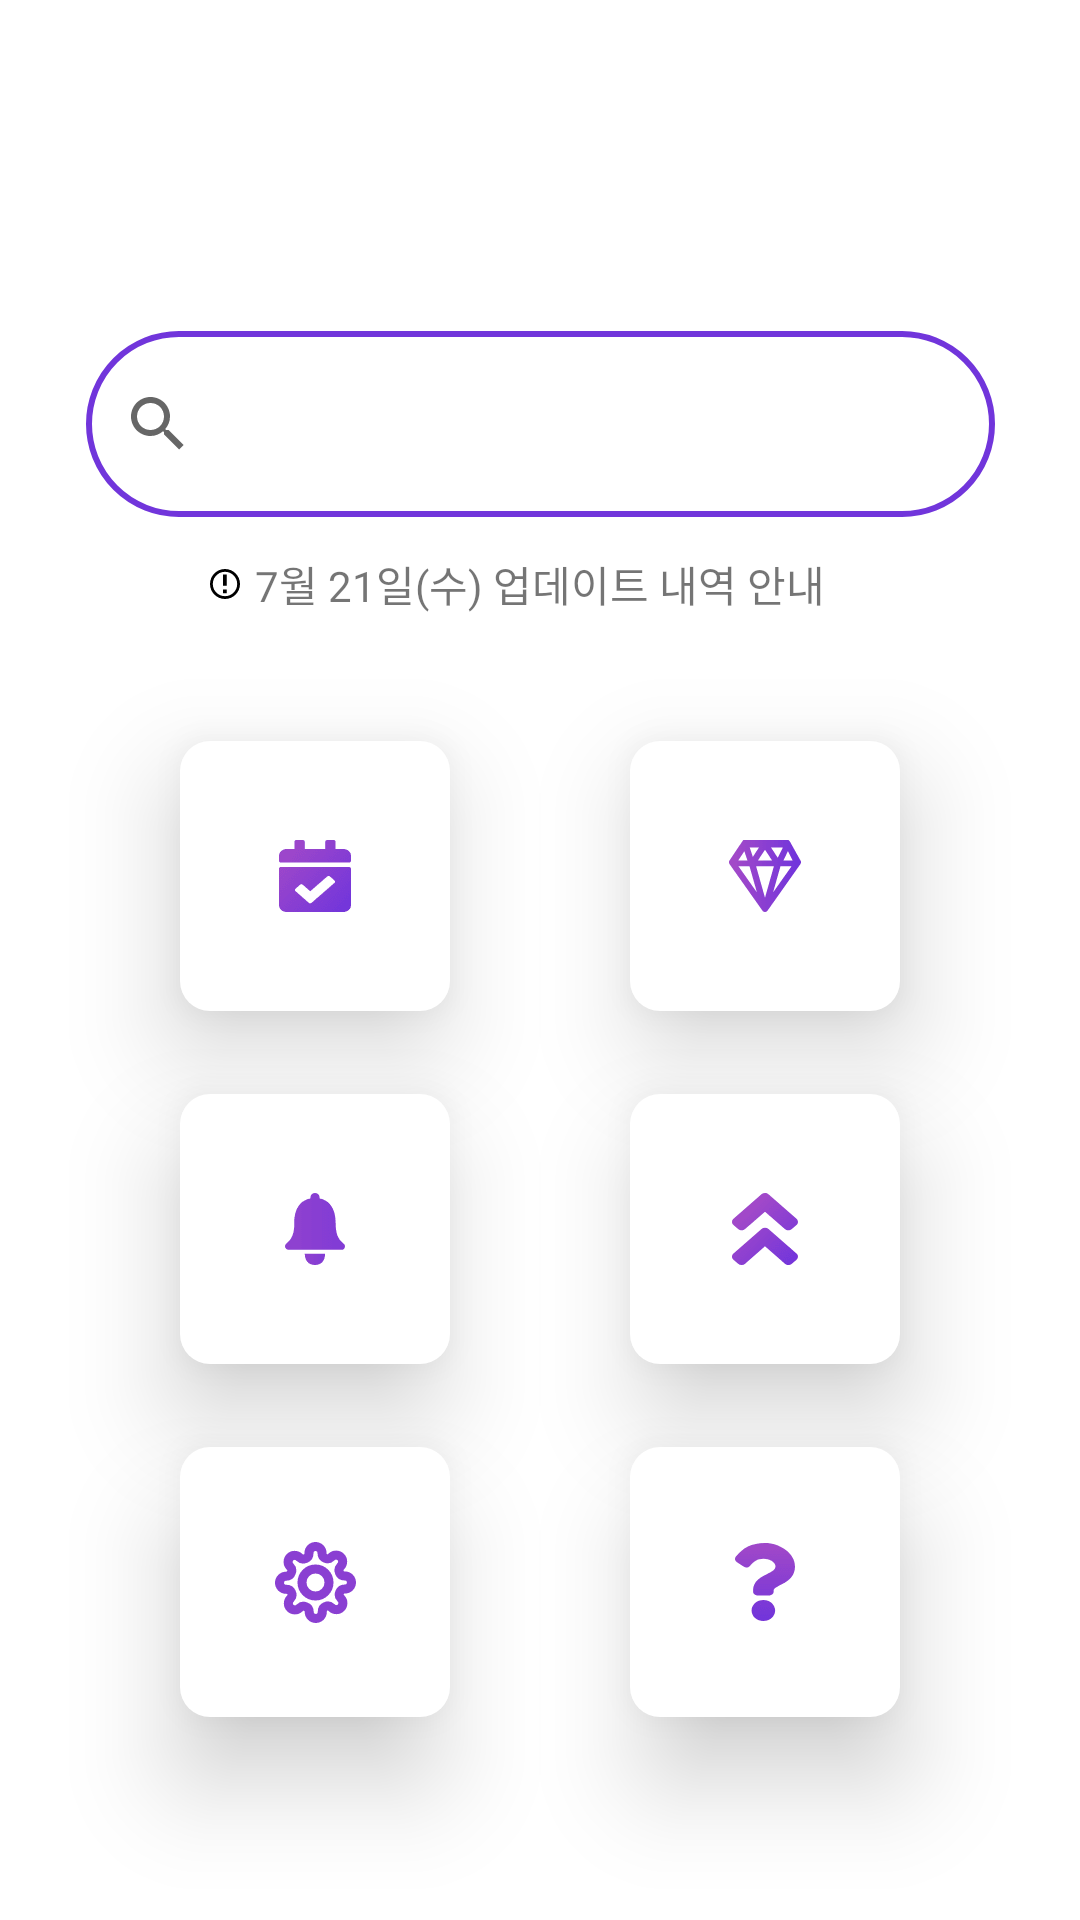

Icons on this 1080x1920 Android screen, each with the point to tap as point (x, y):
schedule: point (315, 876)
setting: point (315, 1582)
